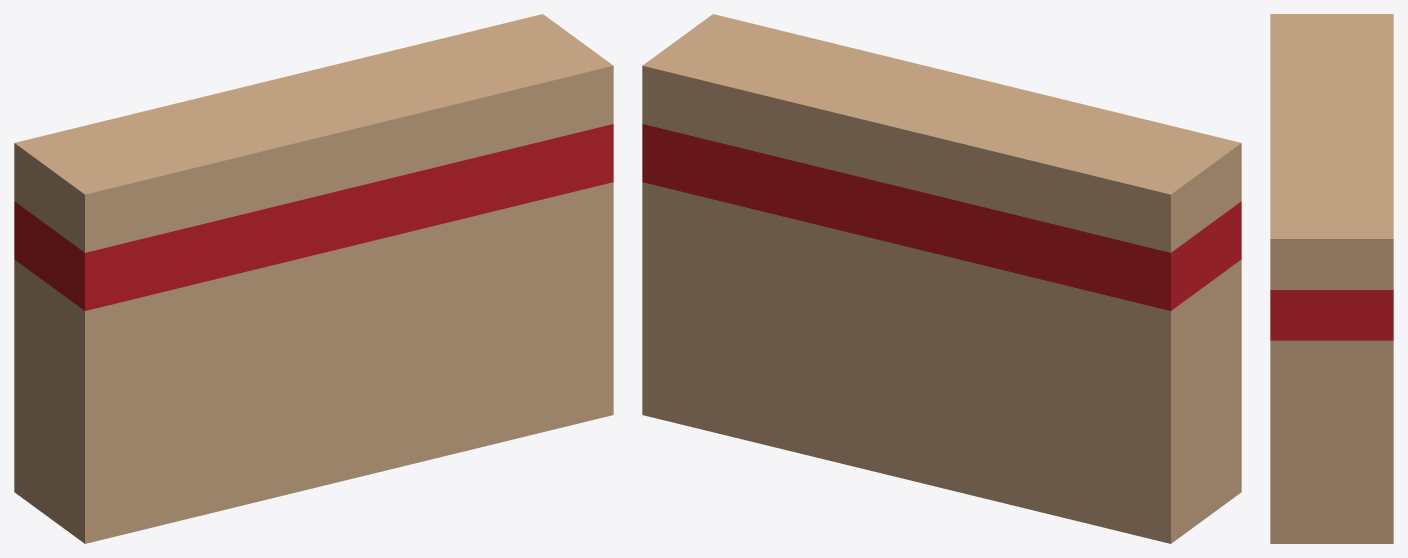
Rendered from curativos_caixa.dae.
The picture shows the model from 3 angles, left to right: view 1: azimuth 30°, elevation 25°; view 2: azimuth 150°, elevation 25°; view 3: azimuth 270°, elevation 25°; orthographic projection. The views are drawn at different scales.
Parts seen in each view (by area): view 1: Curativos - caixa (×2); view 2: Curativos - caixa (×2); view 3: Curativos - caixa (×2).
Part boxes in pixels (<box>): Curativos - caixa (×2): <box>14,14,613,543</box>; Curativos - caixa (×2): <box>642,14,1241,543</box>; Curativos - caixa (×2): <box>1270,14,1393,543</box>.
Bounding box in the file's own units: 95 × 22 × 60.
